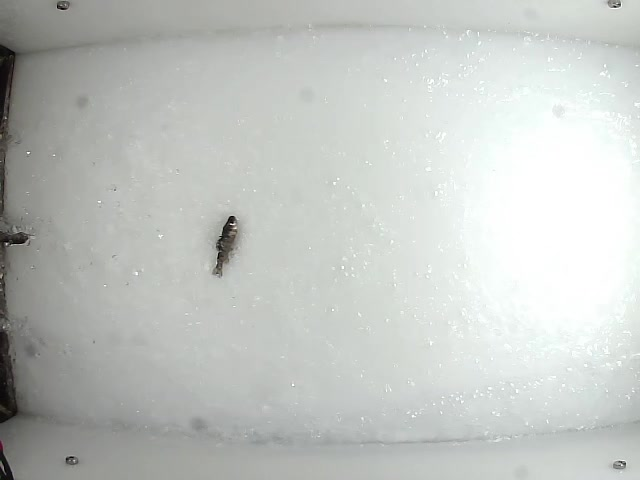fish: (209, 212, 241, 277)
